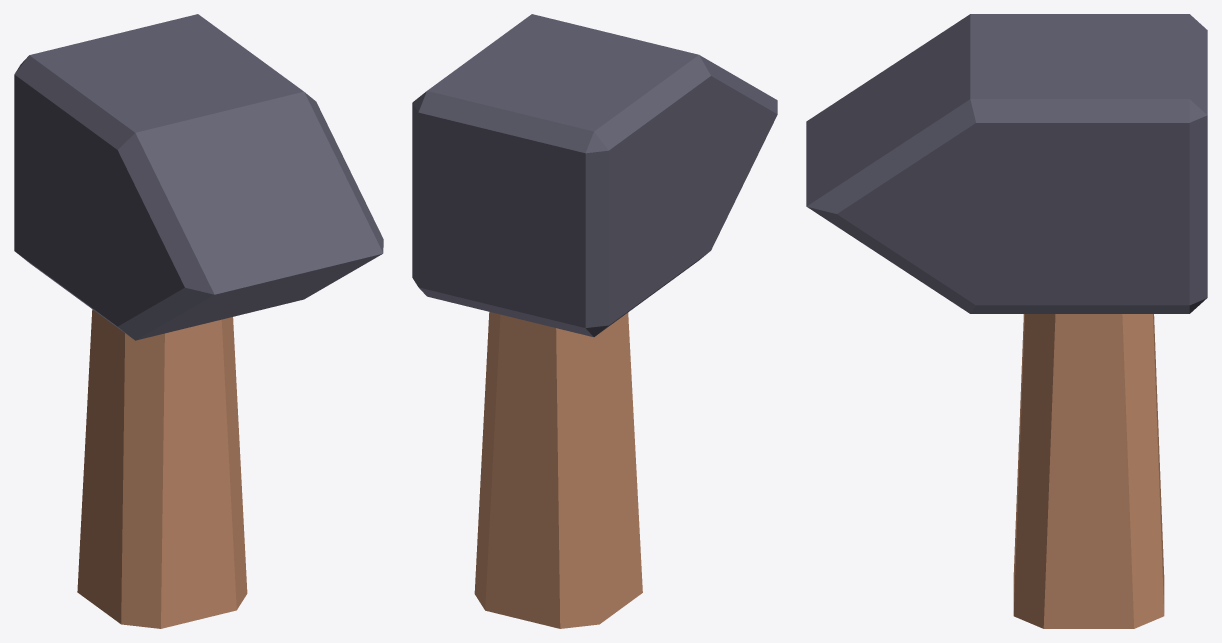
The model's file is hammer.fbx.
The picture shows the model from 3 angles, left to right: view 1: azimuth 30°, elevation 25°; view 2: azimuth 150°, elevation 25°; view 3: azimuth 270°, elevation 25°; orthographic projection. The views are drawn at different scales.
Visible parts, largest first — view 1: Cube.098; view 2: Cube.098; view 3: Cube.098.
Boxes of the visible parts, x1,y1,x2,y2 form: Cube.098: (14,14,383,628); Cube.098: (412,14,777,628); Cube.098: (806,14,1207,628).
Size of the model in its own units: 23.52 by 59.15 by 39.77.
